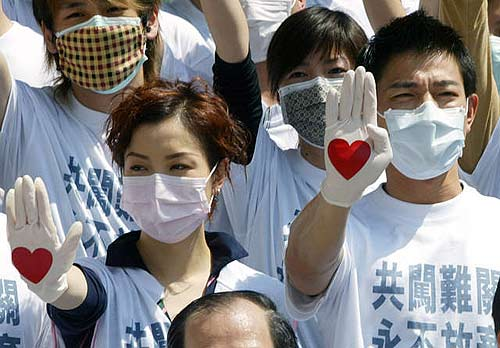face_mask: (117, 122, 215, 240), (373, 51, 470, 170), (280, 40, 364, 146), (56, 1, 141, 95)
